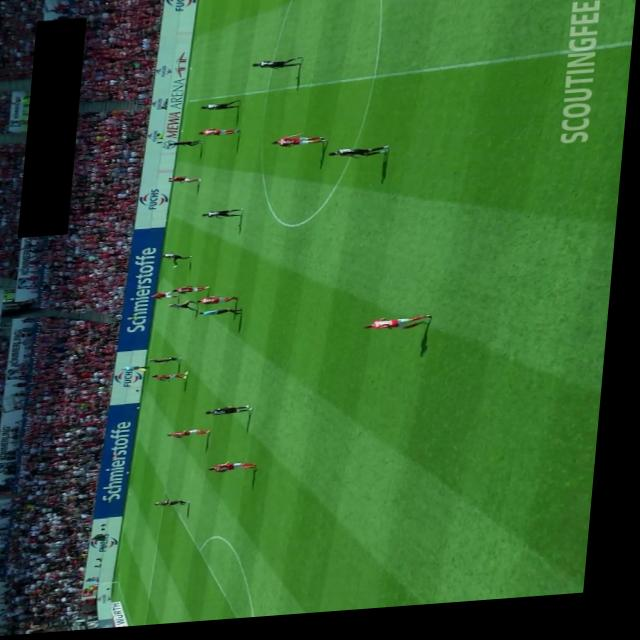player: (370, 320, 439, 337), (330, 150, 393, 166), (273, 136, 332, 152), (254, 60, 305, 74), (216, 463, 267, 476), (166, 253, 197, 271), (213, 408, 261, 419), (205, 212, 248, 224), (175, 430, 220, 441), (201, 129, 244, 140), (202, 297, 244, 308), (203, 103, 243, 114), (174, 302, 205, 316), (158, 374, 196, 384), (163, 500, 200, 510), (155, 292, 187, 303), (177, 288, 216, 297), (170, 176, 205, 186), (171, 141, 206, 150), (156, 359, 189, 366)
referee: (205, 310, 249, 320), (127, 366, 156, 374)
